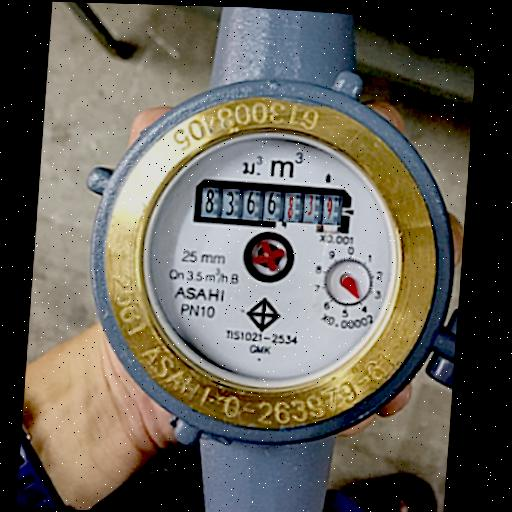3: (220, 189, 238, 218), (302, 193, 318, 224)
6: (241, 189, 258, 218), (263, 190, 279, 220)
8: (200, 186, 218, 218), (282, 193, 299, 222)
9: (321, 195, 338, 225)
border_water_meter_number: (191, 177, 353, 234)
